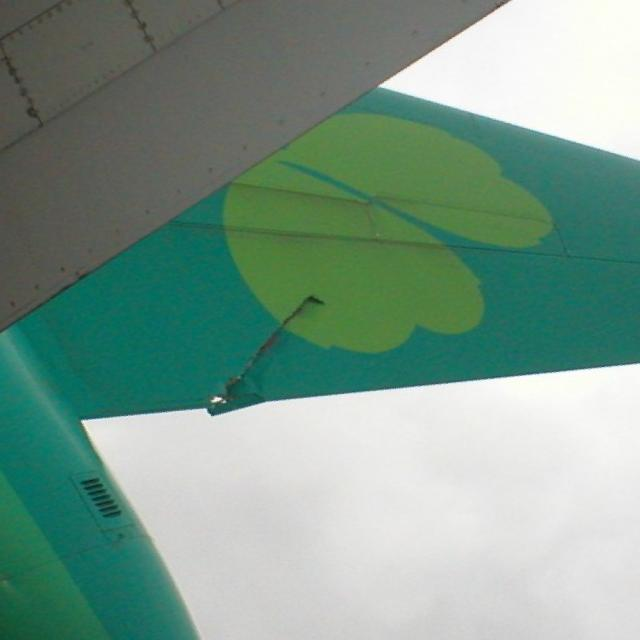crack: (196, 296, 334, 426)
